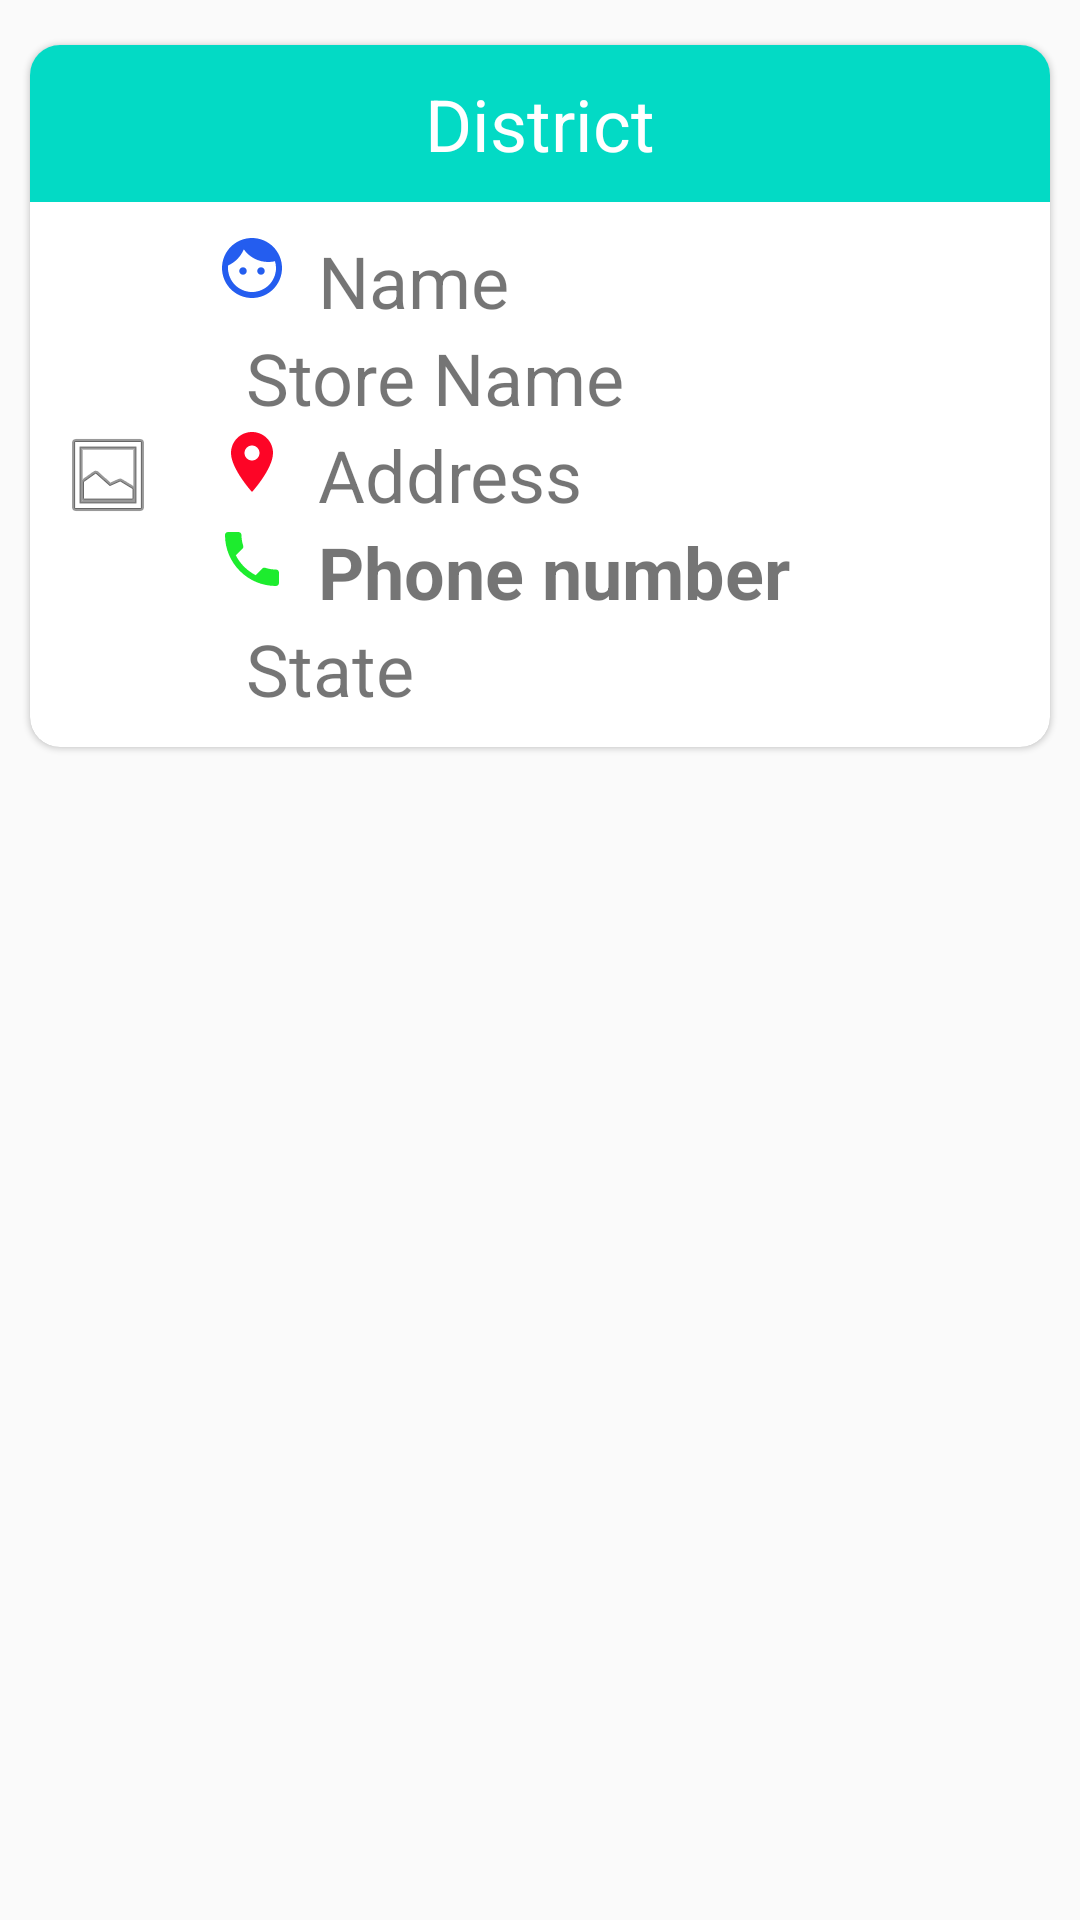

Named icons in this screenshot (1080x1920) and their bounding boxes, (x1, y1, x2, y2):
gallery: (72, 439, 144, 511)
location: (231, 432, 273, 492)
people: (222, 238, 282, 298)
